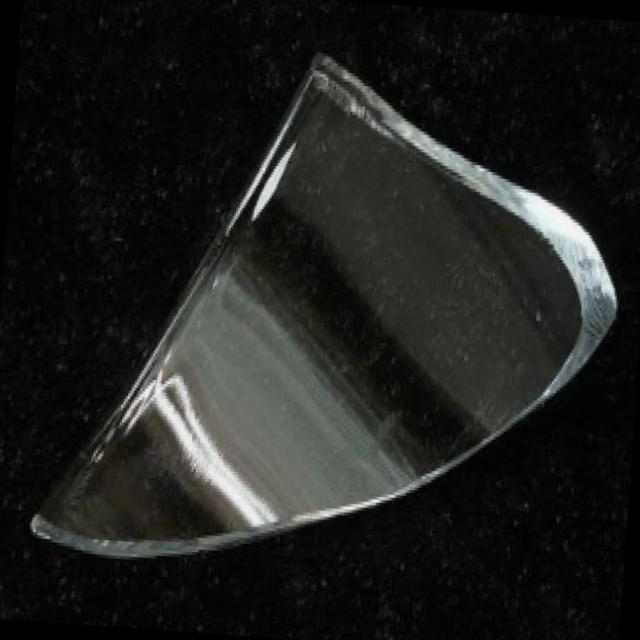PecahanKaca: (25, 31, 634, 598)
